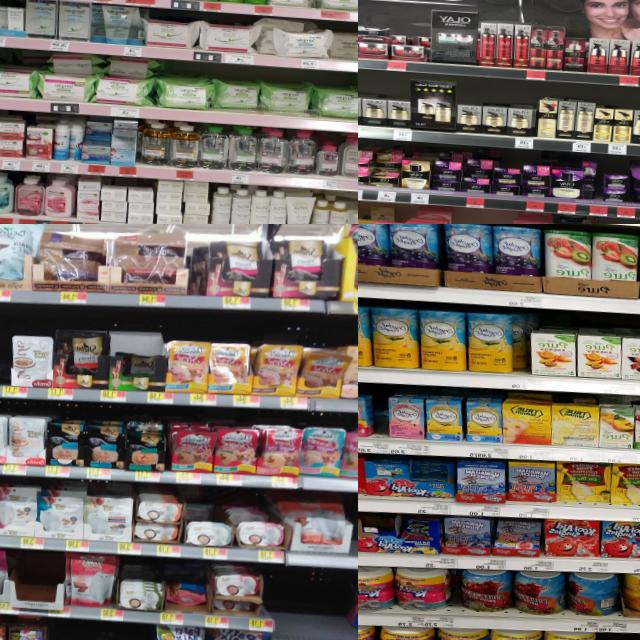100- O.O.S: (274, 570, 354, 640), (45, 618, 87, 640), (110, 622, 152, 640), (0, 316, 9, 397), (350, 496, 358, 569)
